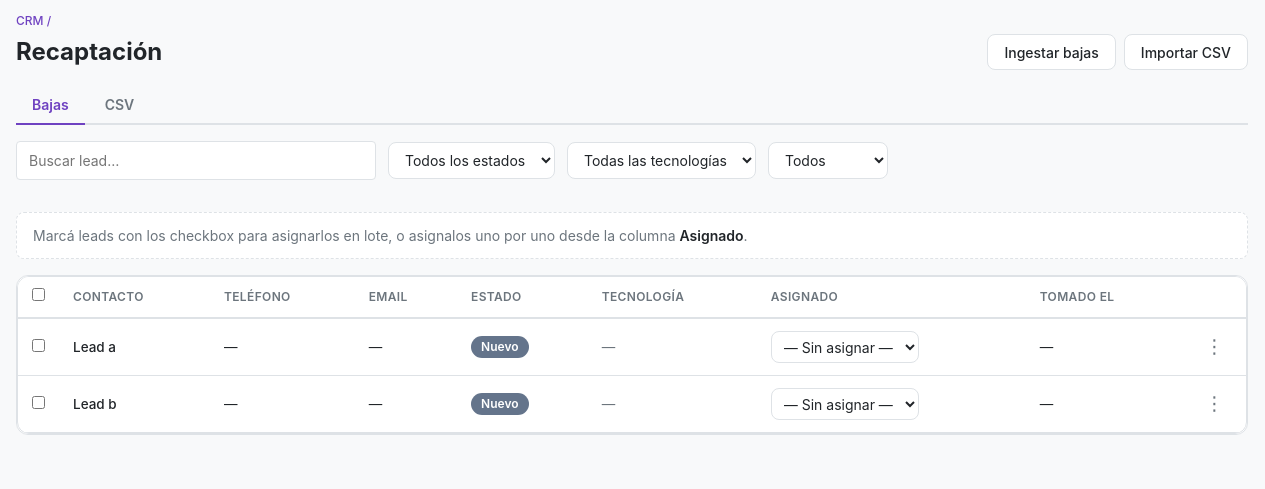
RecaptacionPage — admin (recapture.assign) › A2 — shows the bulk toolbar after selecting a lead
Click the checkbox named "Seleccionar fila a" at {"x": 38, "y": 345}, box [32,339,45,352]
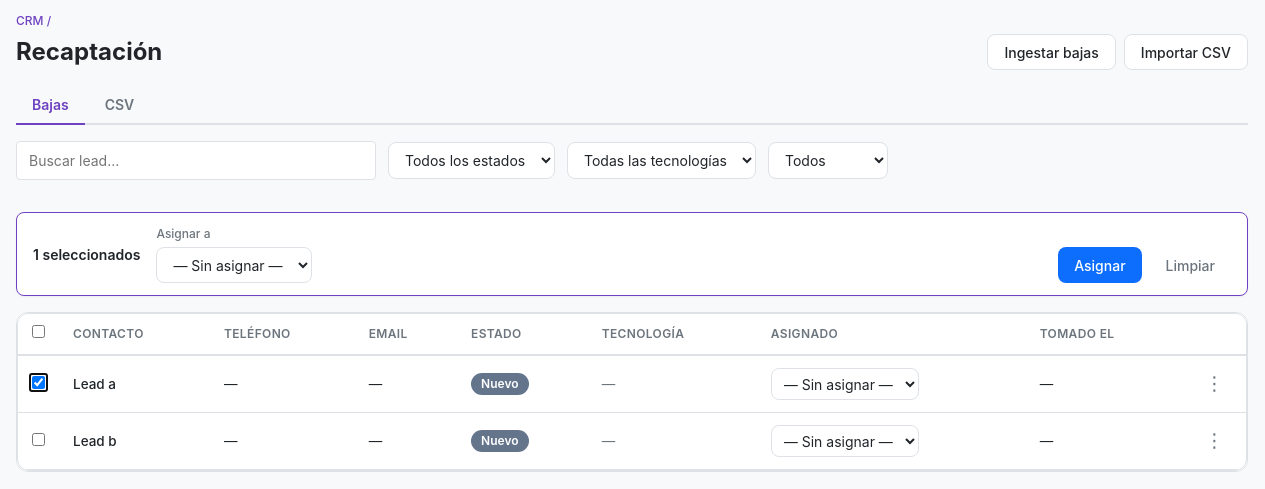
Result: the element named "asignación masiva" is shown at [16,212,1248,296]
Result: the text "1 seleccionados" is shown at [33,244,140,264]
